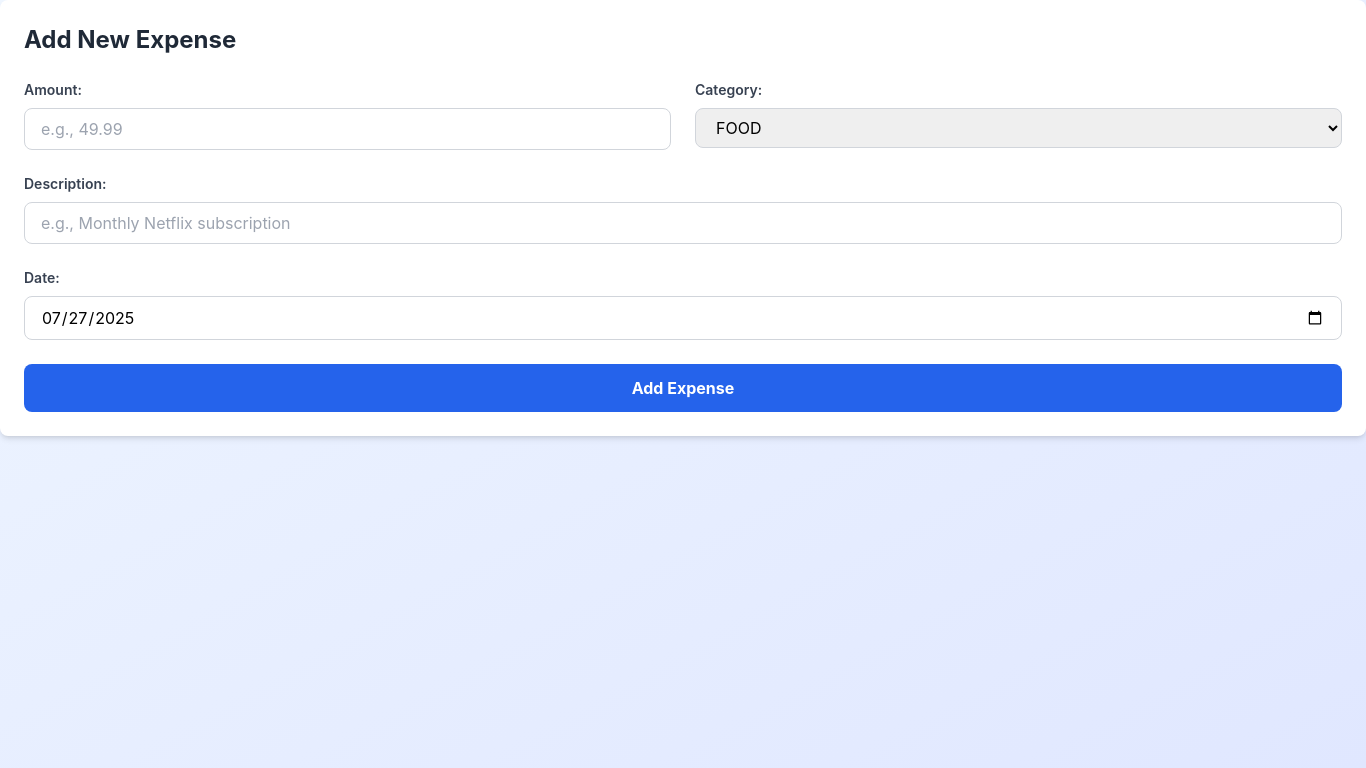
it: ExpenseForm › shows validation errors for invalid amount
This screenshot has width=1366, height=768.
Type "Valid Description" into the field labelled "Description:".
click(683, 223); type("Valid Description")  # box top-left (24, 202), bottom-right (1342, 244)
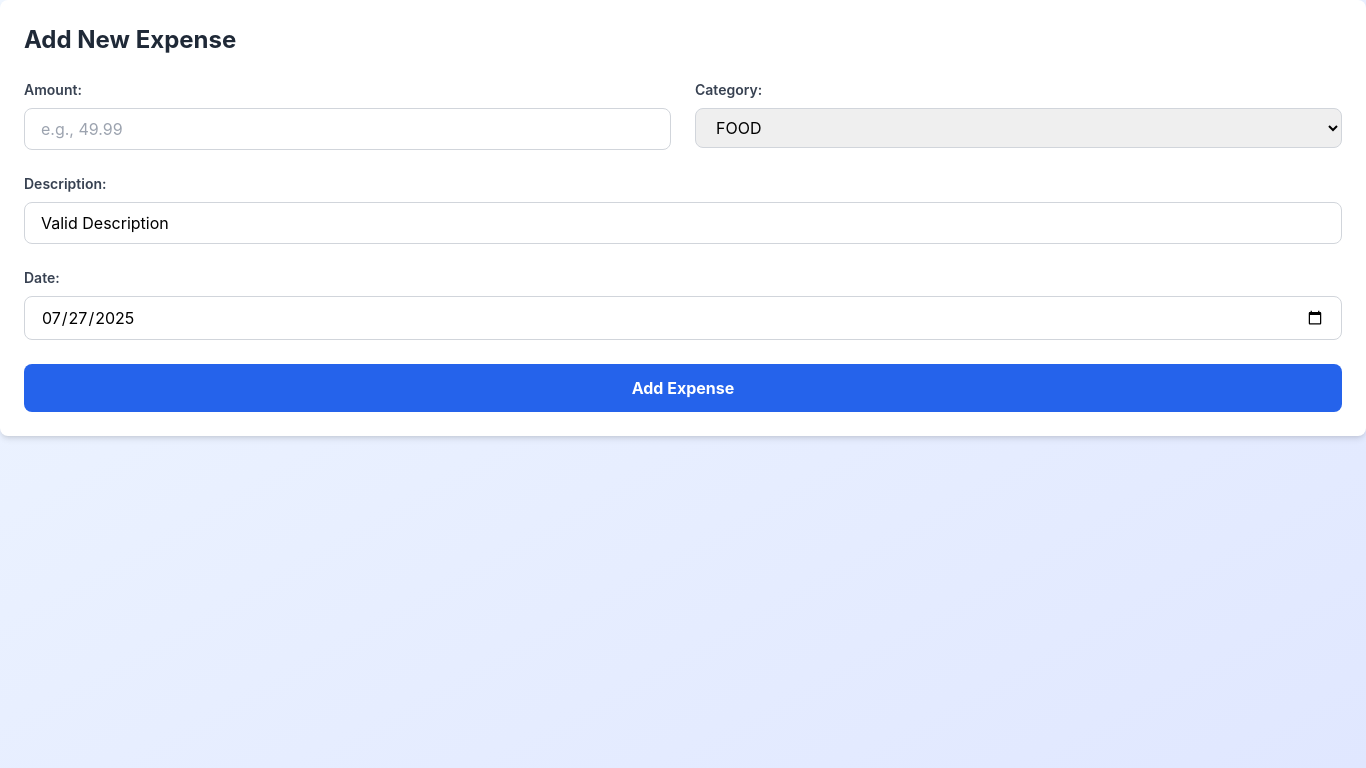
Type "-5" into the number field labelled "Amount:".
click(348, 129); type("-5")  # box top-left (24, 108), bottom-right (671, 150)
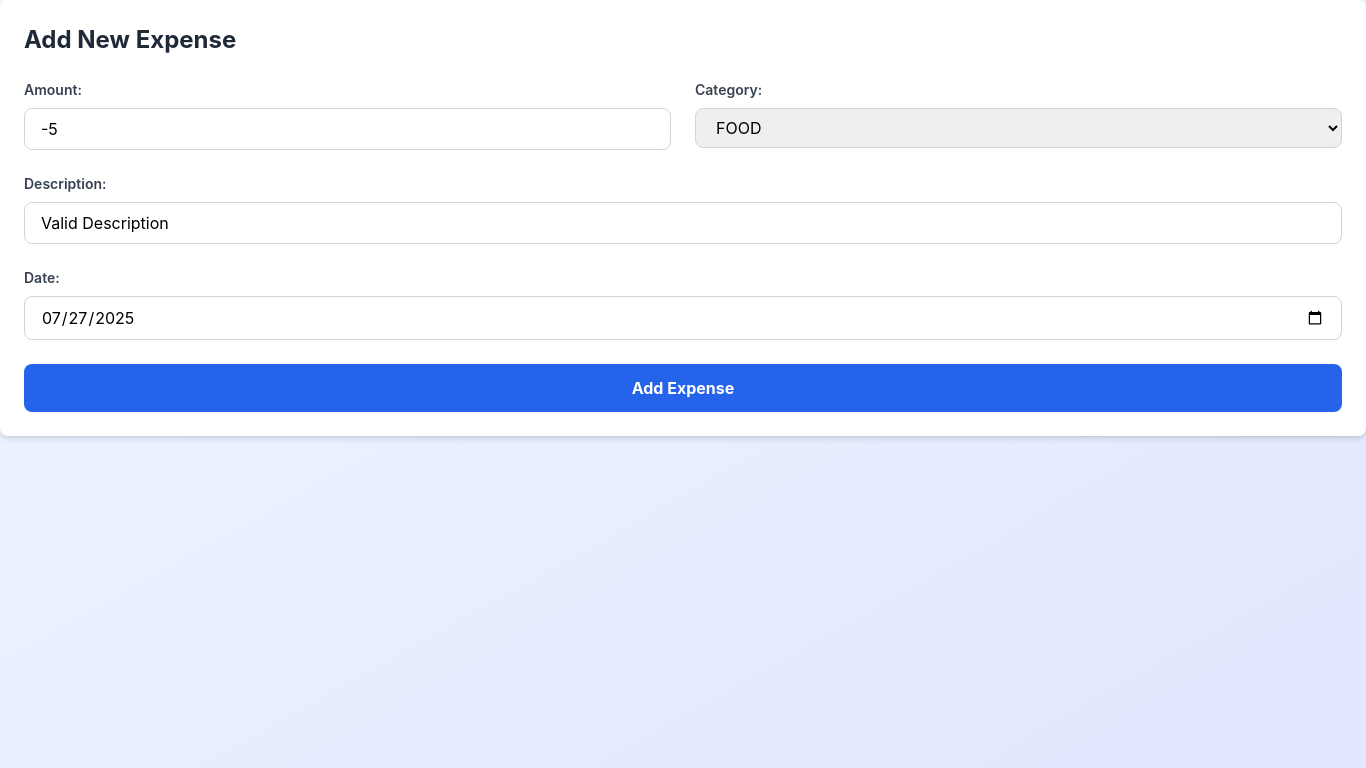
Click the button "Add Expense".
click(683, 388)  # box top-left (24, 364), bottom-right (1342, 412)
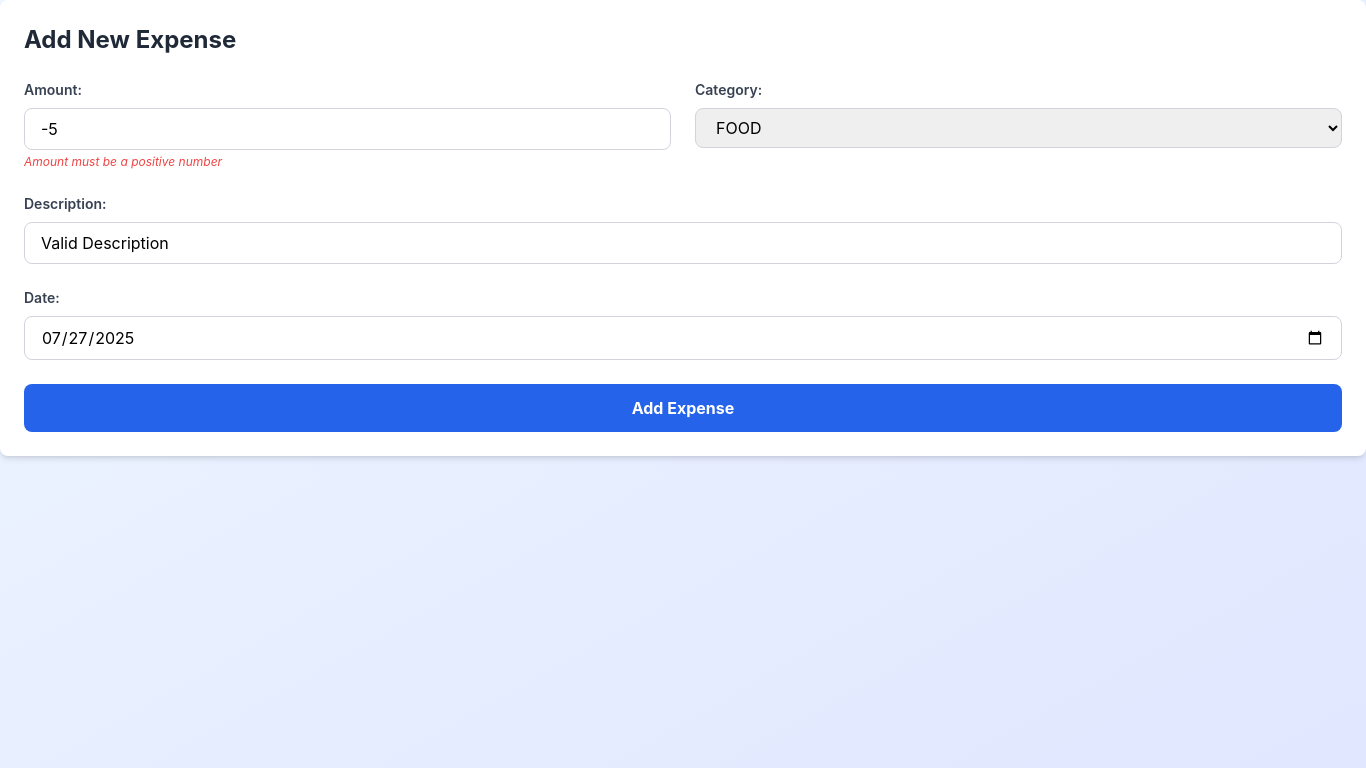
Now the text "Amount must be a positive number" is shown, box top-left (24, 154), bottom-right (222, 169)
